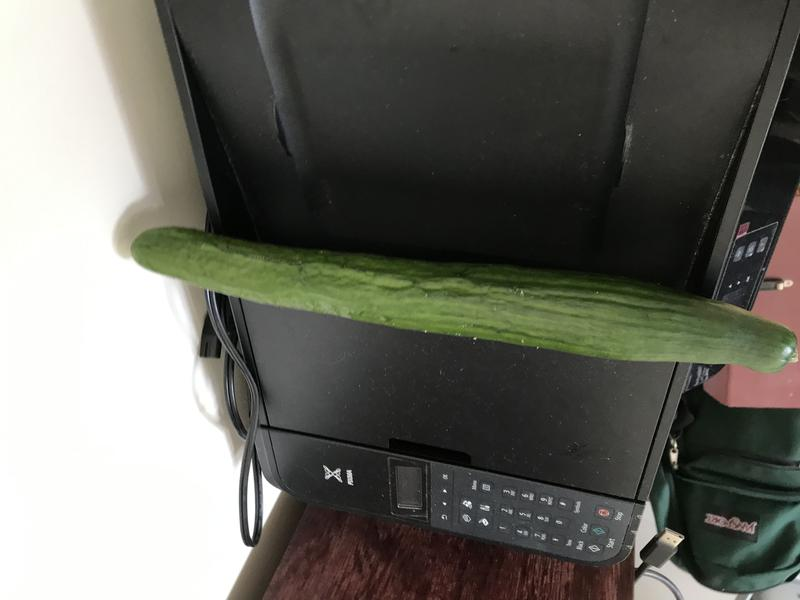cucumber: (109, 212, 800, 393)
